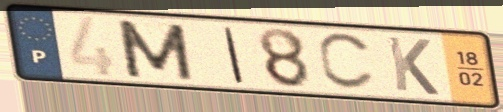4: (66, 14, 120, 80)
8: (256, 26, 312, 90)
C: (315, 31, 378, 93)
I: (221, 24, 247, 86)
K: (383, 34, 442, 98)
M: (112, 17, 198, 83)
